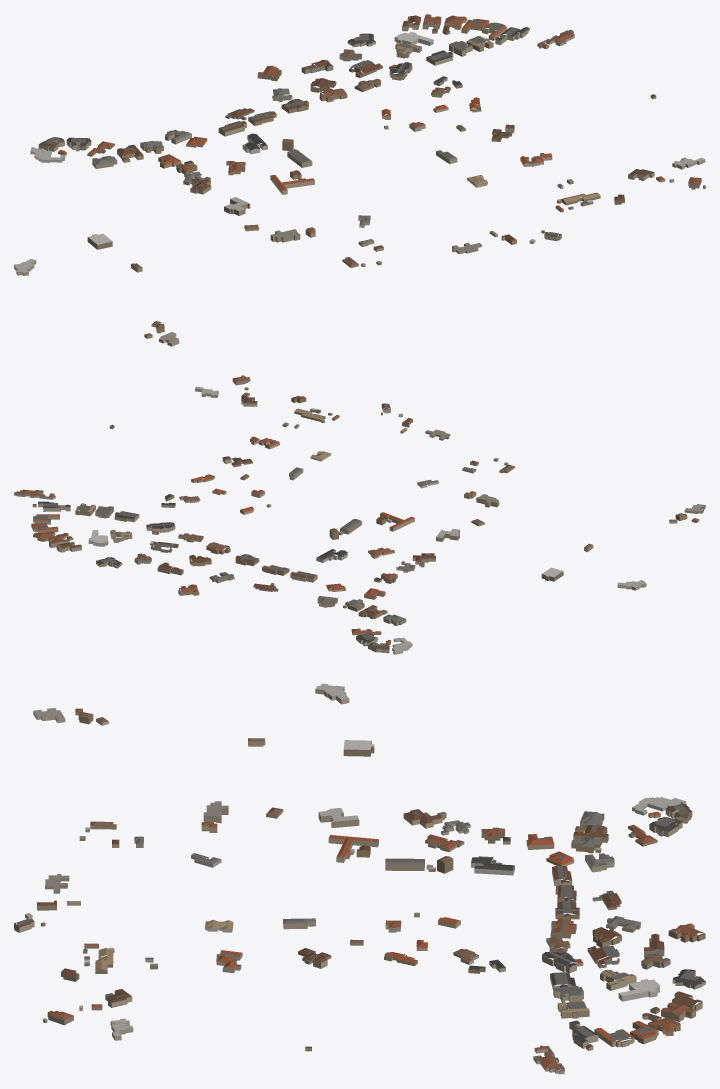
The picture shows the model from 3 angles, top to bottom: view 1: azimuth 30°, elevation 25°; view 2: azimuth 150°, elevation 25°; view 3: azimuth 270°, elevation 25°; orthographic projection. The views are drawn at different scales.
Parts seen in each view (by area): view 1: buildings_r3_c0_lod1; view 2: buildings_r3_c0_lod1; view 3: buildings_r3_c0_lod1.
Boxes of the visible parts, left/top/right/bottom form: buildings_r3_c0_lod1: left=14, top=14, right=705, bottom=346; buildings_r3_c0_lod1: left=14, top=375, right=705, bottom=654; buildings_r3_c0_lod1: left=14, top=683, right=705, bottom=1074.
Bounding box in the file's own units: 1108 × 75.1 × 793.
